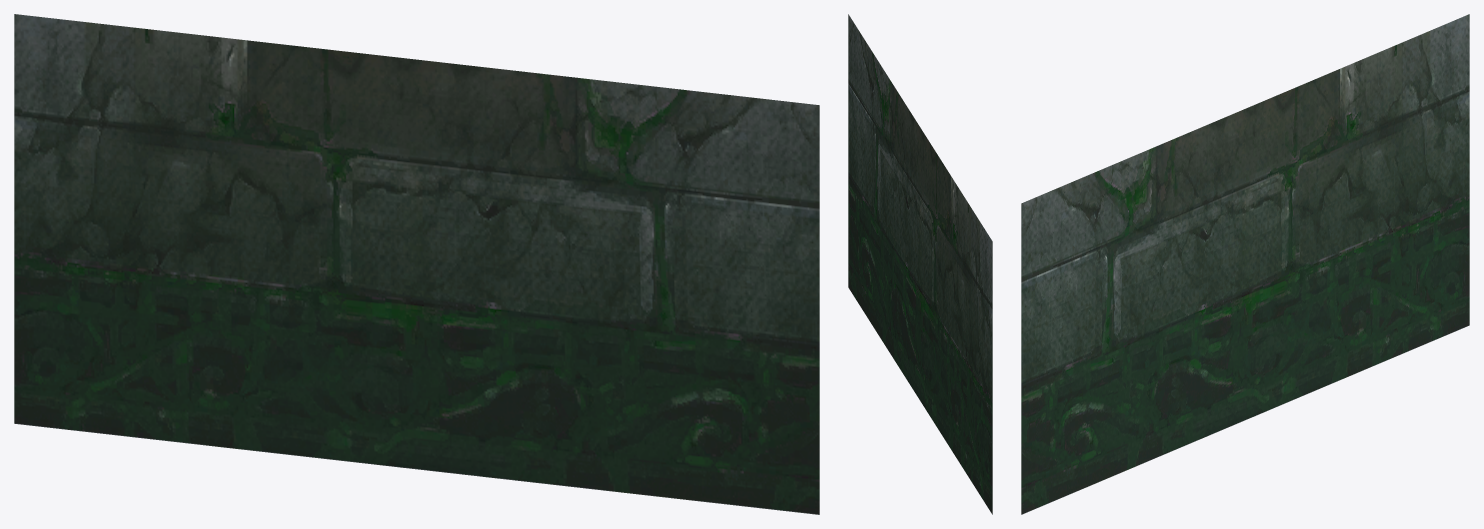
The model's file is stemple_half_diagonal_06.fbx.
The picture shows the model from 3 angles, left to right: view 1: azimuth 30°, elevation 25°; view 2: azimuth 150°, elevation 25°; view 3: azimuth 270°, elevation 25°; orthographic projection. The views are drawn at different scales.
Visible parts, largest first — view 1: sunken_tileset/sunken_wall_straight05_mat; view 2: sunken_tileset/sunken_wall_straight05_mat; view 3: sunken_tileset/sunken_wall_straight05_mat.
Boxes of the visible parts, <box> form: sunken_tileset/sunken_wall_straight05_mat: <box>14,14,819,514</box>; sunken_tileset/sunken_wall_straight05_mat: <box>848,14,992,514</box>; sunken_tileset/sunken_wall_straight05_mat: <box>1021,14,1469,514</box>.
Size of the model in its own units: 3.59 by 2.75 by 3.59.
